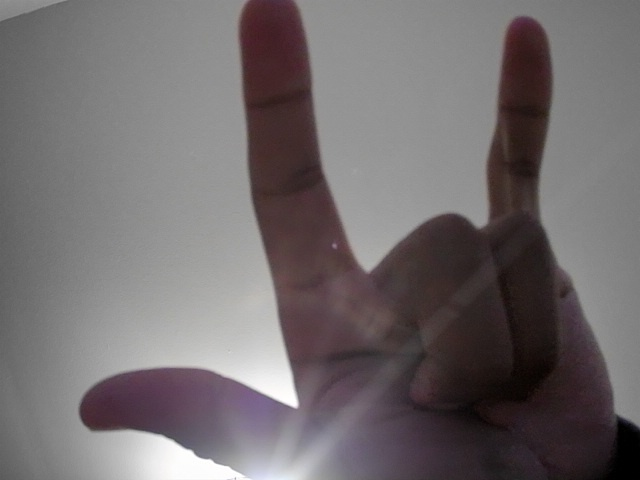ILoveYou: (40, 1, 629, 478)
